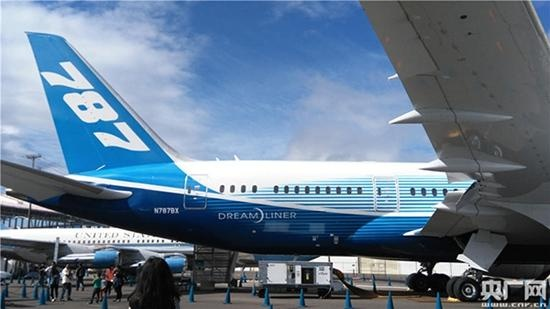airplane: (1, 28, 477, 270)
